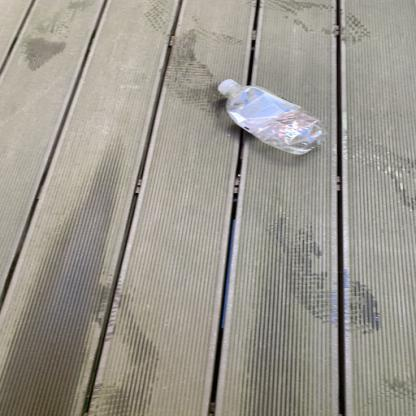plastic-bottles: (212, 73, 330, 159)
